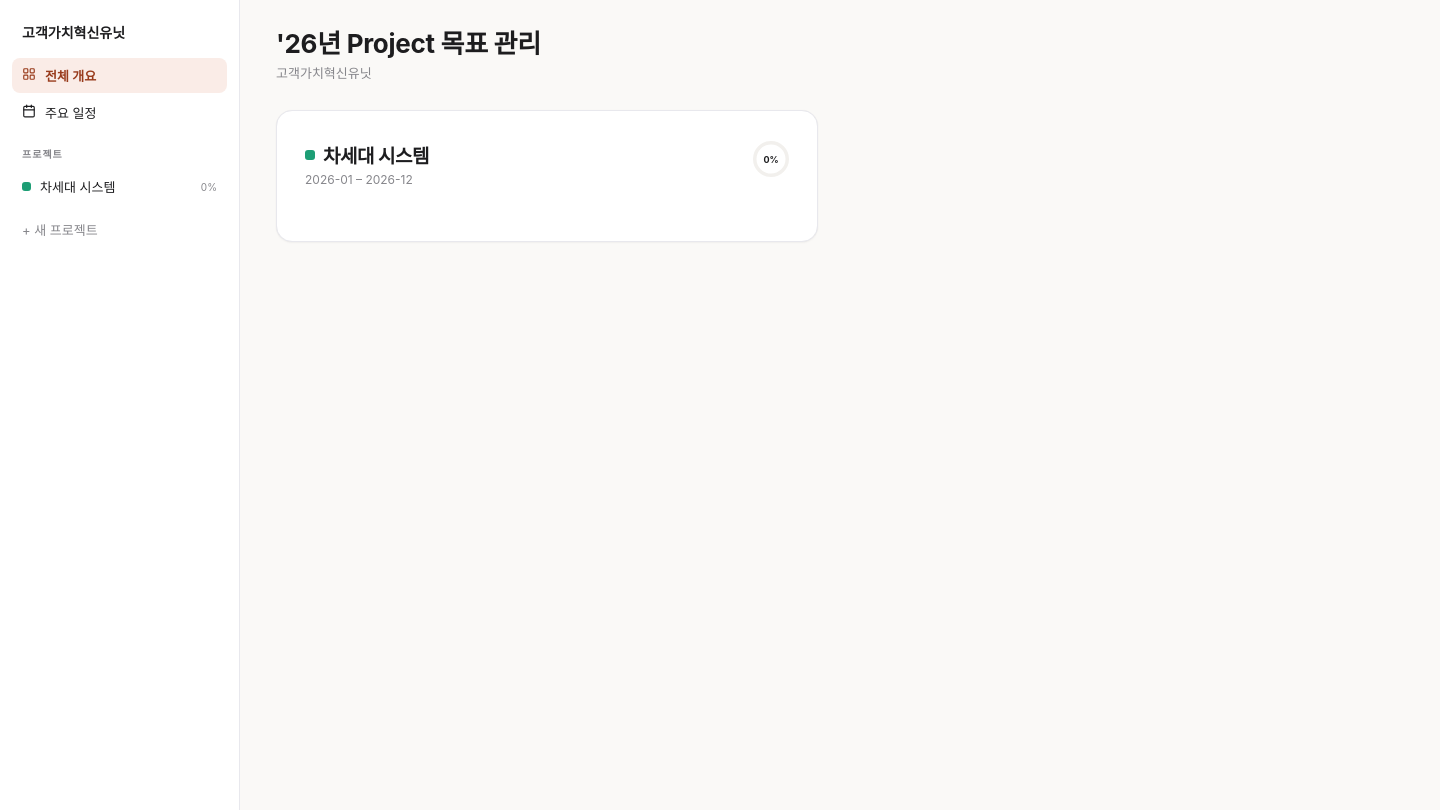
Test: 사이드바 프로젝트 클릭 → 상세를 연다
사이드바가 DOM에서 먼저 렌더되므로 첫 번째가 사이드바 프로젝트 버튼이다
Click the button "차세대 시스템 0%": (120, 186) [12, 169, 227, 204]
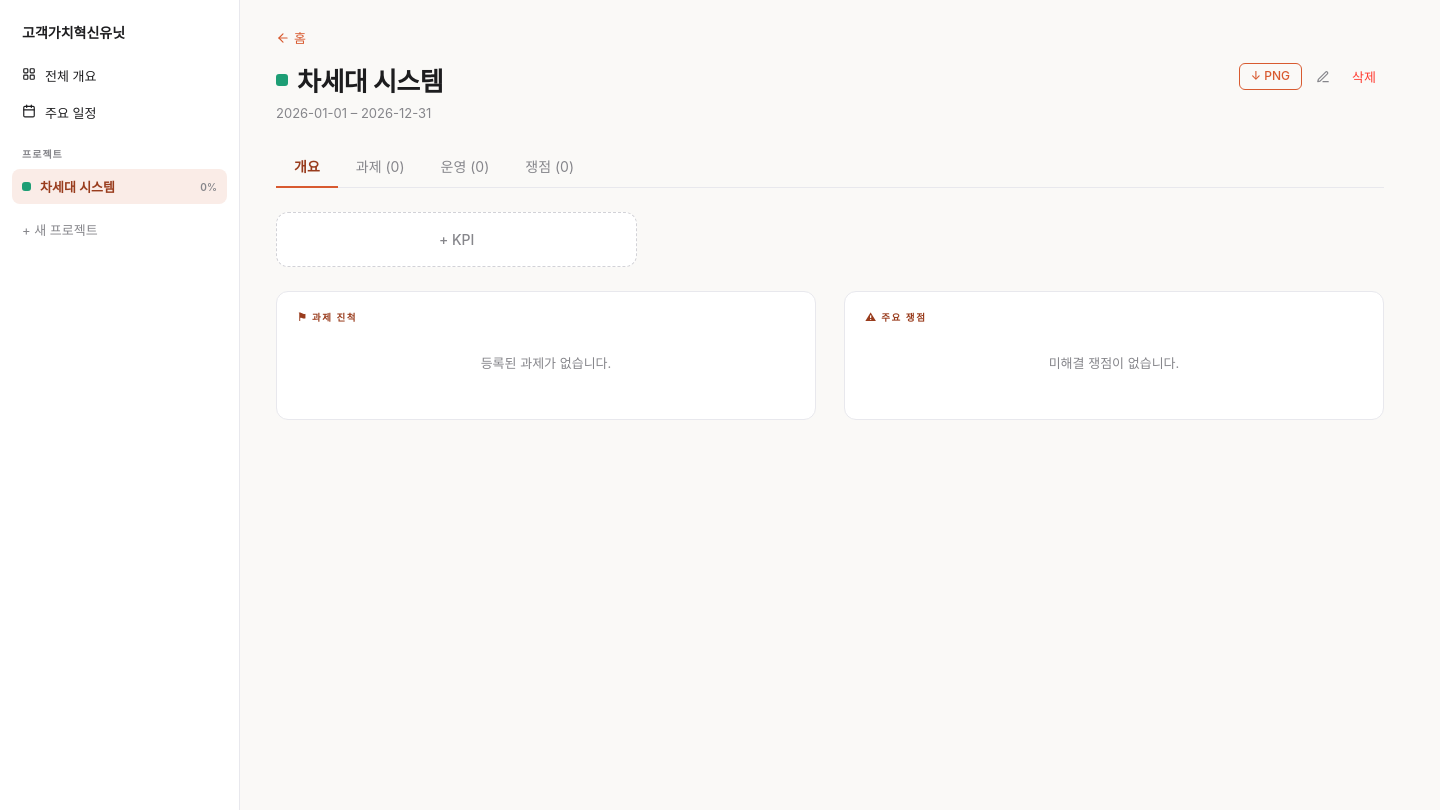
Check: the text "차세대 시스템" is shown, box [40, 179, 115, 195]
Check: the button "홈" is shown, box [276, 28, 306, 47]
